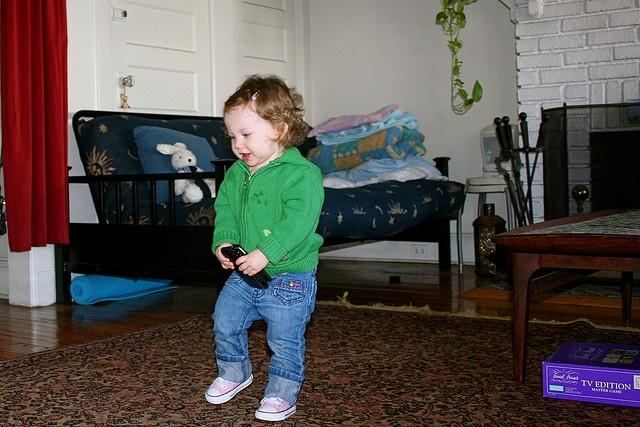Meja: (493, 206, 639, 385)
